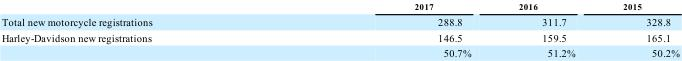table: (1, 1, 678, 58)
table column: (1, 1, 282, 58), (282, 1, 494, 58), (494, 1, 598, 58), (598, 1, 678, 58)
table column header: (1, 1, 678, 13)
table row: (1, 13, 678, 29), (1, 29, 678, 44), (1, 44, 678, 58), (1, 1, 678, 13)
